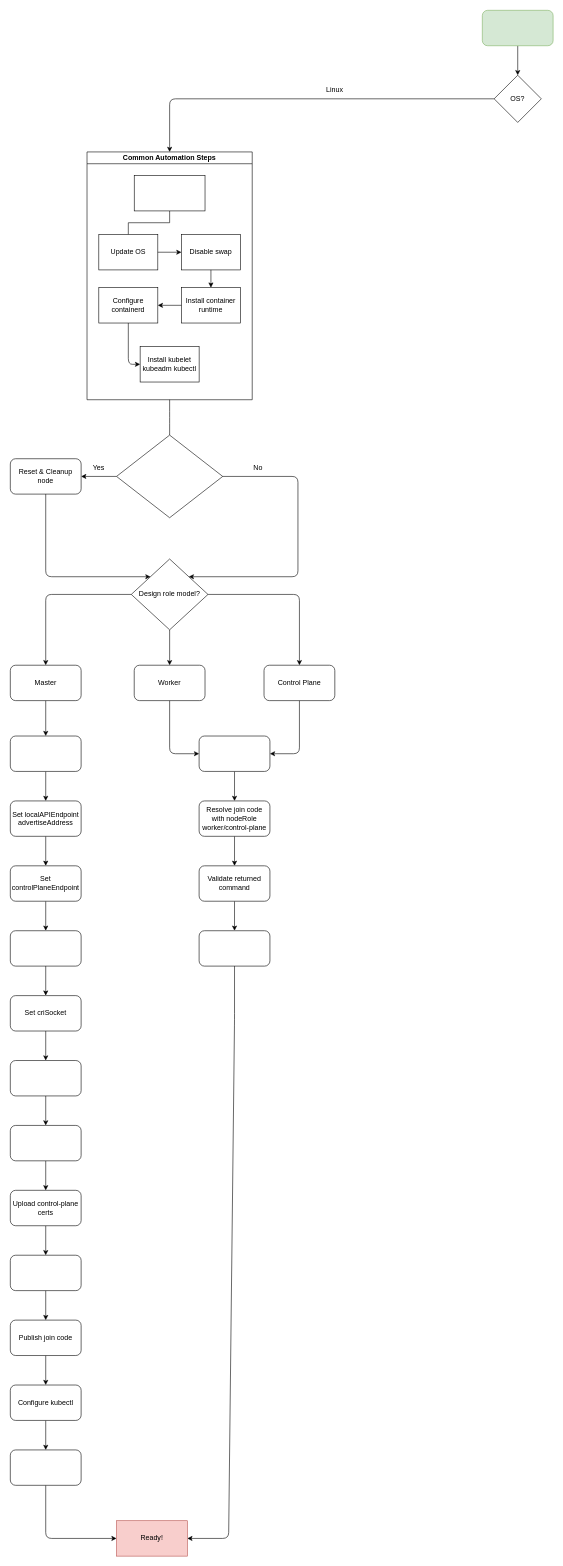
The diagram is 563 pixels wide and 1566 high, and some of its shapes have lost their labels. Here are the shapes that lost their labels. From the top down, the centre of each, then its label:
At (x=517, y=28): "Initialize GO K8s Project".
At (x=169, y=193): "Implement base node preparation".
At (x=169, y=476): "Existing state?".
At (x=45, y=753): "Generate kubeadm config file".
At (x=234, y=753): "Ensure container runtime ready".
At (x=45, y=948): "Set podSubnet".
At (x=234, y=948): "kubeadm join".
At (x=45, y=1078): "kubeadm init --config --upload-certs".
At (x=45, y=1143): "Create worker join command".
At (x=45, y=1273): "Create control-plane join command".
At (x=45, y=1467): "Install pod network".
